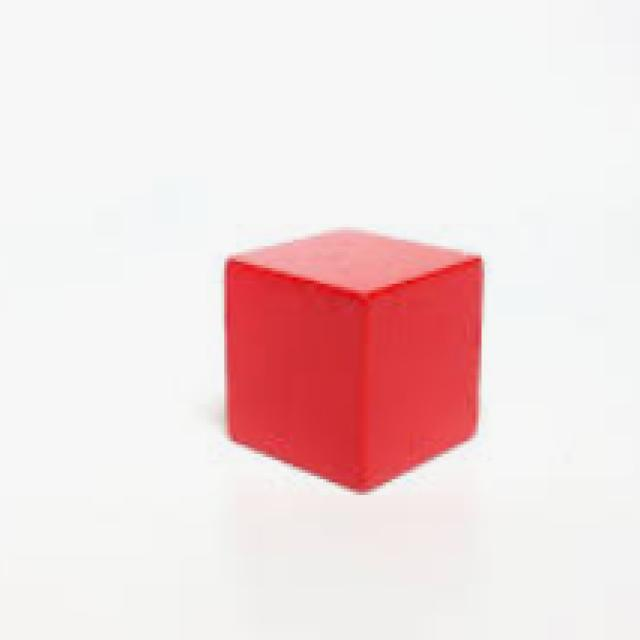red cube: (222, 220, 485, 502)
